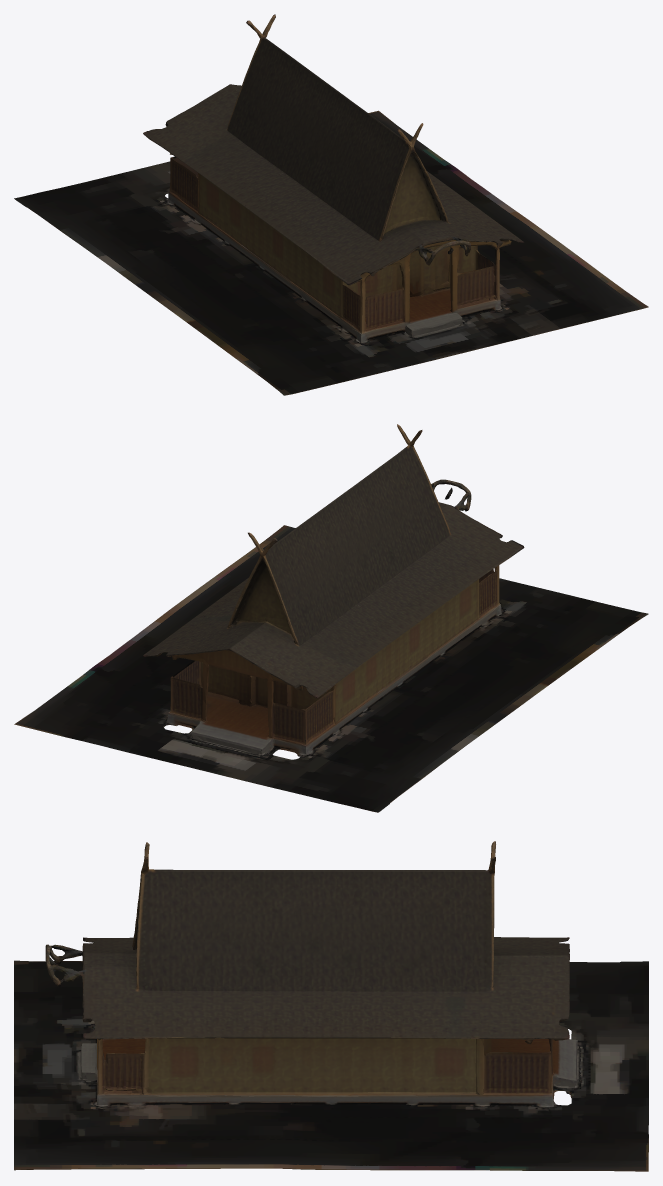
File: jawa-barat.glb
The picture shows the model from 3 angles, top to bottom: view 1: azimuth 30°, elevation 25°; view 2: azimuth 150°, elevation 25°; view 3: azimuth 270°, elevation 25°; orthographic projection. The views are drawn at different scales.
Parts seen in each view (by area): view 1: world; view 2: world; view 3: world.
Part boxes in pixels (x1,y1,x2,y2): world: (14,14,648,395); world: (14,424,648,812); world: (14,841,648,1171).
Bounding box in the file's own units: 0.5455 × 0.2727 × 0.7.
1 material, 1 textured.
